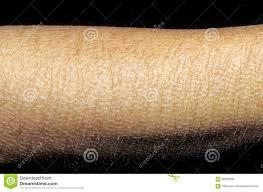Goosebumps: (0, 24, 262, 153)
